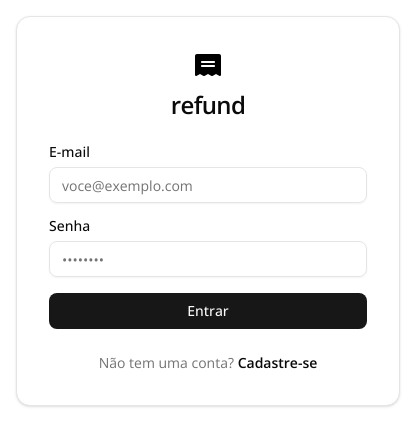
Test case: PageLogin › keeps the submit button busy while the post-login navigation is in flight
Type "ana@exemplo.com" into the field labelled "E-mail" at {"x": 208, "y": 185}, box [49, 167, 367, 203]
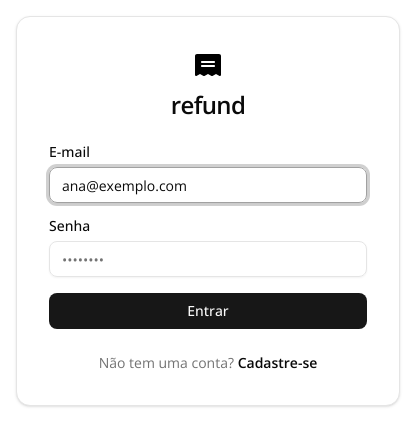
Type "123456" into the password field labelled "Senha" at {"x": 208, "y": 259}, box [49, 241, 367, 277]
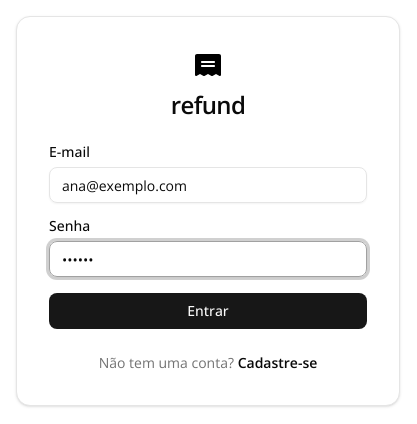
Click the button "Entrar" at {"x": 208, "y": 311}, box [49, 293, 367, 329]
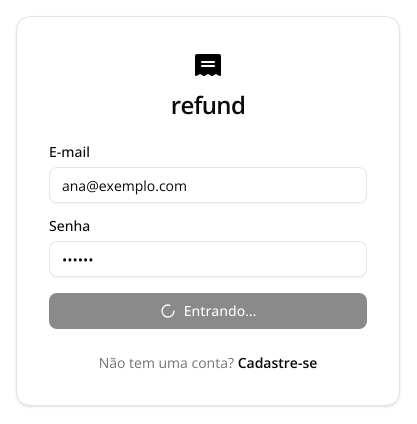
expect the button "Entrando…" is disabled: met, box [49, 293, 367, 329]
